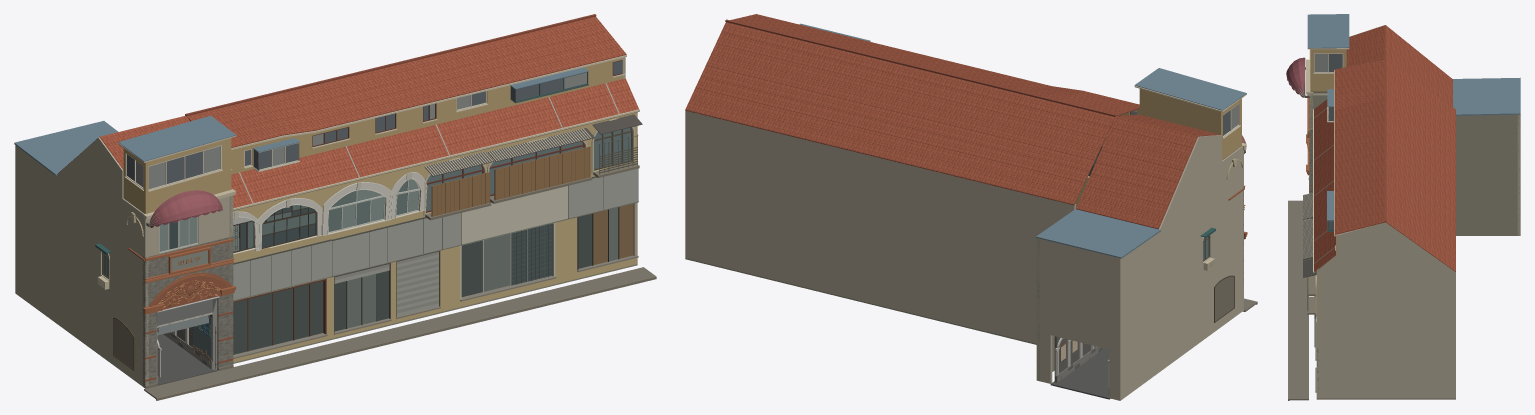
The model's file is changning-hengchang-li-yuyuan-road-gatehouse-lod.glb.
The picture shows the model from 3 angles, left to right: view 1: azimuth 30°, elevation 25°; view 2: azimuth 150°, elevation 25°; view 3: azimuth 270°, elevation 25°; orthographic projection. The views are drawn at different scales.
Visible parts, largest first — view 1: 亨昌里愚园路南口过街楼与东侧街屋; view 2: 亨昌里愚园路南口过街楼与东侧街屋; view 3: 亨昌里愚园路南口过街楼与东侧街屋.
Part boxes in pixels (<box>): 亨昌里愚园路南口过街楼与东侧街屋: <box>14,14,656,400</box>; 亨昌里愚园路南口过街楼与东侧街屋: <box>685,14,1257,400</box>; 亨昌里愚园路南口过街楼与东侧街屋: <box>1286,14,1520,400</box>.
Size of the model in its own units: 36.27 by 16.21 by 17.96.
96 materials, 2 textured.
